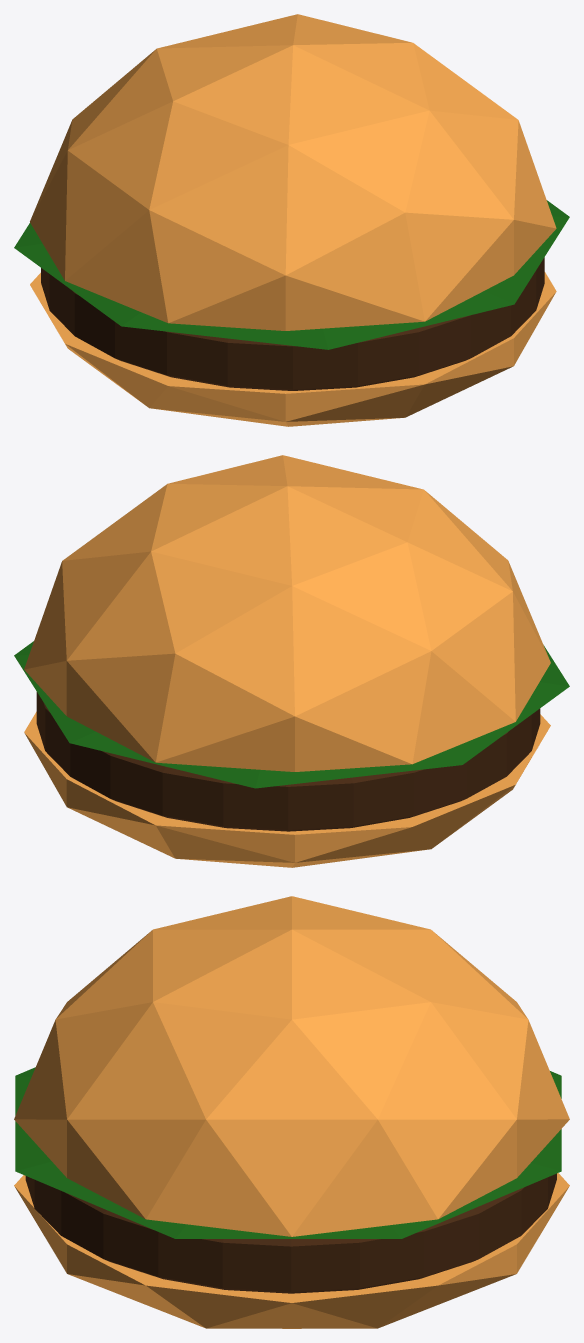
The model's file is Burger 3.obj.
3 views of the same model, one above another, from view 1: azimuth 30°, elevation 25°; view 2: azimuth 150°, elevation 25°; view 3: azimuth 270°, elevation 25° (orthographic). The views are drawn at different scales.
Visible parts, largest first — view 1: Burger_3; view 2: Burger_3; view 3: Burger_3.
Part boxes in pixels (left/top/right/bottom): Burger_3: left=14, top=14, right=569, bottom=426; Burger_3: left=14, top=455, right=569, bottom=867; Burger_3: left=14, top=896, right=569, bottom=1328.
Bounding box in the file's own units: 0.9025 × 0.6302 × 0.9025.
